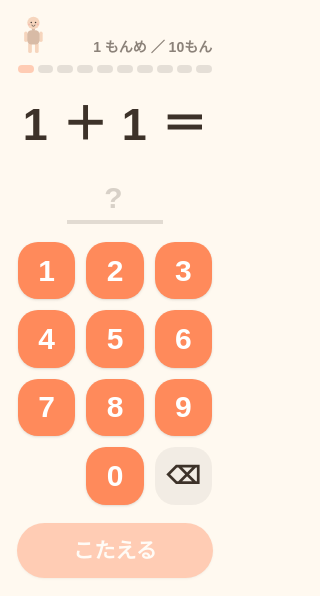
lets an impatient child tap through an incorrect answer early
The width and height of the screenshot is (320, 596).
Click the button "5" at (115, 339), box [86,310,144,368]
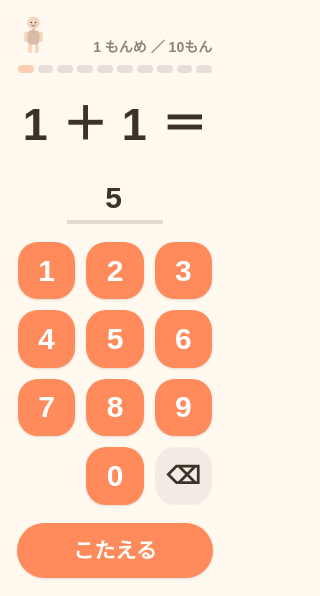
Click the button "こたえる" at (115, 550), box [17,522,213,578]
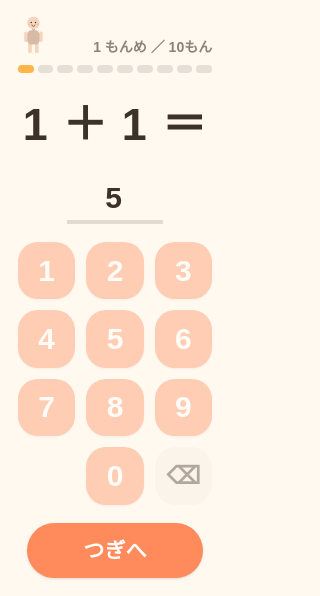
Click the button "つぎへ" at (115, 550), box [27,522,203,578]
Wait 2200 ms
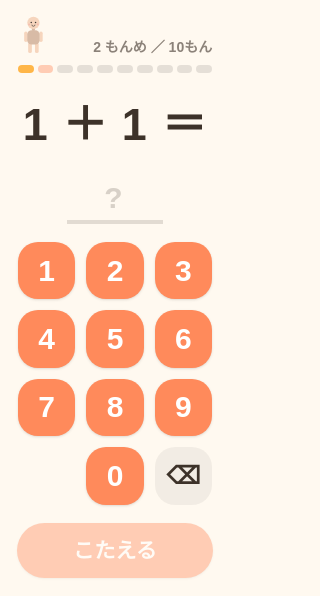
Result: the text "2 もんめ ／ 10もん" is shown at [93,37,212,57]
